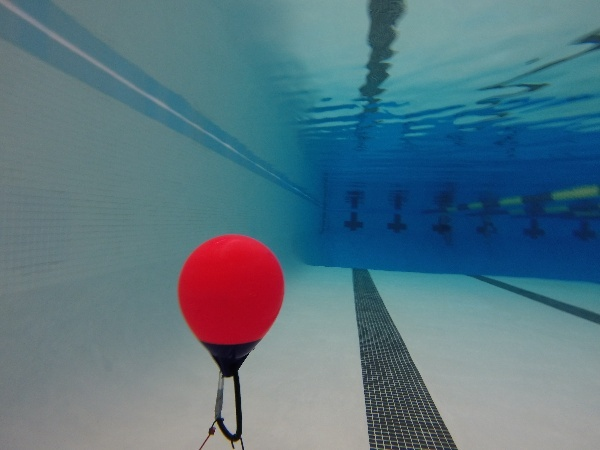buoy_red: (171, 232, 289, 379)
